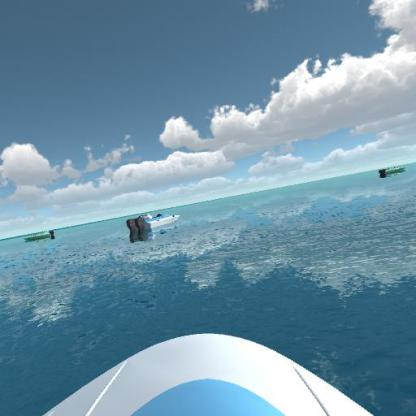usv0: (374, 162, 410, 179), (22, 226, 57, 243)
usv1: (125, 208, 184, 236)
